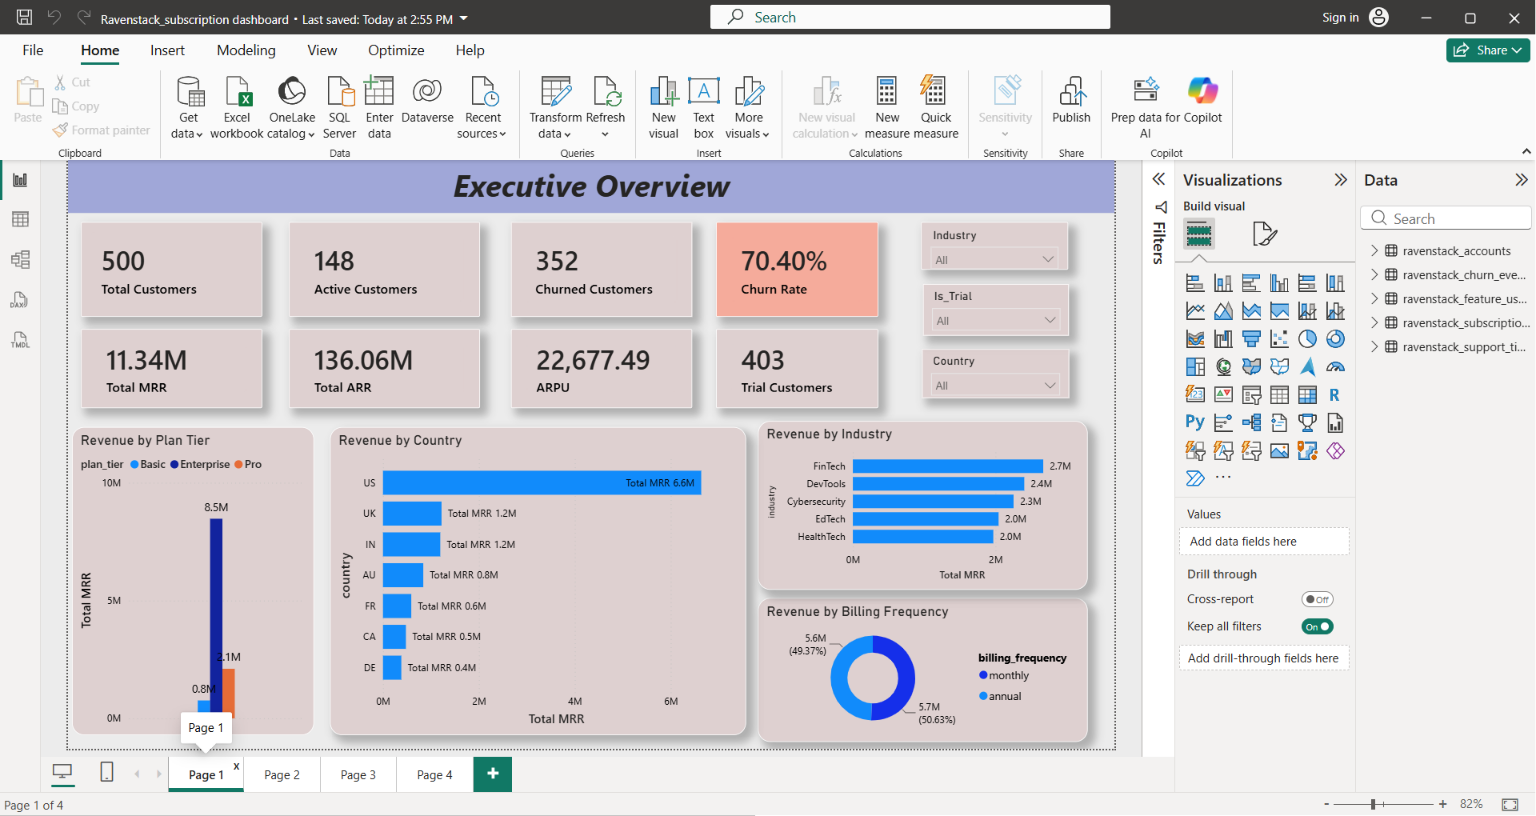

The page's visual inventory and layout, read from the dashboard file:
{"tool":"powerbi","page":{"name":"Page 1","canvas":[1280,720],"ordinal":0},"visuals":[{"type":"cardVisual","fields":{"Data":["ravenstack_subscriptions.Total Customers"]},"box":[15.9,75.8,221.3,116.2],"z":0},{"type":"cardVisual","fields":{"Data":["ravenstack_subscriptions.Active Customers"]},"box":[270.2,75.8,233.6,116.2],"z":1000},{"type":"cardVisual","fields":{"Data":["ravenstack_subscriptions.Total MRR"]},"box":[15.9,206.7,221.3,96.6],"z":2000},{"type":"cardVisual","fields":{"Data":["ravenstack_subscriptions.Total ARR"]},"box":[270.2,206.7,233.6,96.6],"z":3000},{"type":"cardVisual","fields":{"Data":["ravenstack_subscriptions.Churned Customers"]},"box":[541.7,75.8,221.3,116.2],"z":4000},{"type":"cardVisual","fields":{"Data":["ravenstack_subscriptions.Churn Rate"]},"box":[792.4,75.8,198.1,116.2],"z":5000},{"type":"cardVisual","fields":{"Data":["ravenstack_subscriptions.ARPU"]},"box":[541.7,206.7,221.3,96.6],"z":6000},{"type":"cardVisual","fields":{"Data":["ravenstack_subscriptions.Trial Customers"]},"box":[792.4,206.7,198.1,96.6],"z":7000},{"type":"clusteredColumnChart","title":"Revenue by Plan Tier","fields":{"Y":["ravenstack_subscriptions.Total MRR"],"Series":["ravenstack_subscriptions.plan_tier"]},"box":[4.9,326.5,295.9,376.6],"z":8000},{"type":"donutChart","title":"Revenue by Billing Frequency","fields":{"Category":["ravenstack_subscriptions.billing_frequency"],"Y":["ravenstack_subscriptions.Total MRR"]},"box":[843.8,535.6,403.5,176.1],"z":9000},{"type":"clusteredBarChart","title":"Revenue by Industry","fields":{"Y":["ravenstack_subscriptions.Total MRR"],"Category":["ravenstack_accounts.industry"]},"box":[843.8,319.2,403.5,206.7],"z":10000},{"type":"barChart","title":"Revenue by Country","fields":{"Y":["ravenstack_subscriptions.Total MRR"],"Category":["ravenstack_accounts.country"]},"box":[320.4,326.5,508.7,376.6],"z":11000},{"type":"slicer","fields":{"Values":["ravenstack_accounts.country"]},"box":[1044.3,231.1,179.8,59.9],"z":12000},{"type":"slicer","fields":{"Values":["ravenstack_accounts.industry"]},"box":[1043.1,75.8,179.8,58.7],"z":13000},{"type":"slicer","fields":{"Values":["ravenstack_accounts.is_trial"]},"box":[1045.5,151.6,178.5,63.6],"z":14000},{"type":"textbox","box":[0,0,1280.3,64.8],"z":15000}]}

Visuals, with their boxes on the page's 1280x720 design canvas (x1, y1, x2, y2). These are canvas units, not pixel positions in the 1536x816 screenshot, which may show the page scaled, cropped or inside an application window:
cardVisual - ravenstack_subscriptions.Total Customers: <box>16,76,237,192</box>
cardVisual - ravenstack_subscriptions.Active Customers: <box>270,76,504,192</box>
cardVisual - ravenstack_subscriptions.Total MRR: <box>16,207,237,303</box>
cardVisual - ravenstack_subscriptions.Total ARR: <box>270,207,504,303</box>
cardVisual - ravenstack_subscriptions.Churned Customers: <box>542,76,763,192</box>
cardVisual - ravenstack_subscriptions.Churn Rate: <box>792,76,990,192</box>
cardVisual - ravenstack_subscriptions.ARPU: <box>542,207,763,303</box>
cardVisual - ravenstack_subscriptions.Trial Customers: <box>792,207,990,303</box>
"Revenue by Plan Tier" clusteredColumnChart: <box>5,326,301,703</box>
"Revenue by Billing Frequency" donutChart: <box>844,536,1247,712</box>
"Revenue by Industry" clusteredBarChart: <box>844,319,1247,526</box>
"Revenue by Country" barChart: <box>320,326,829,703</box>
slicer - ravenstack_accounts.country: <box>1044,231,1224,291</box>
slicer - ravenstack_accounts.industry: <box>1043,76,1223,134</box>
slicer - ravenstack_accounts.is_trial: <box>1046,152,1224,215</box>
textbox: <box>0,0,1280,65</box>
